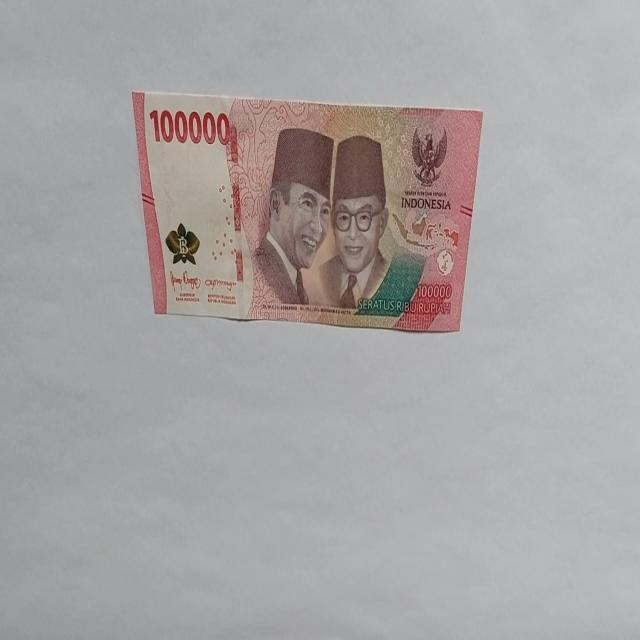seratus ribu rupiah: (132, 89, 484, 334), (249, 126, 334, 310)
